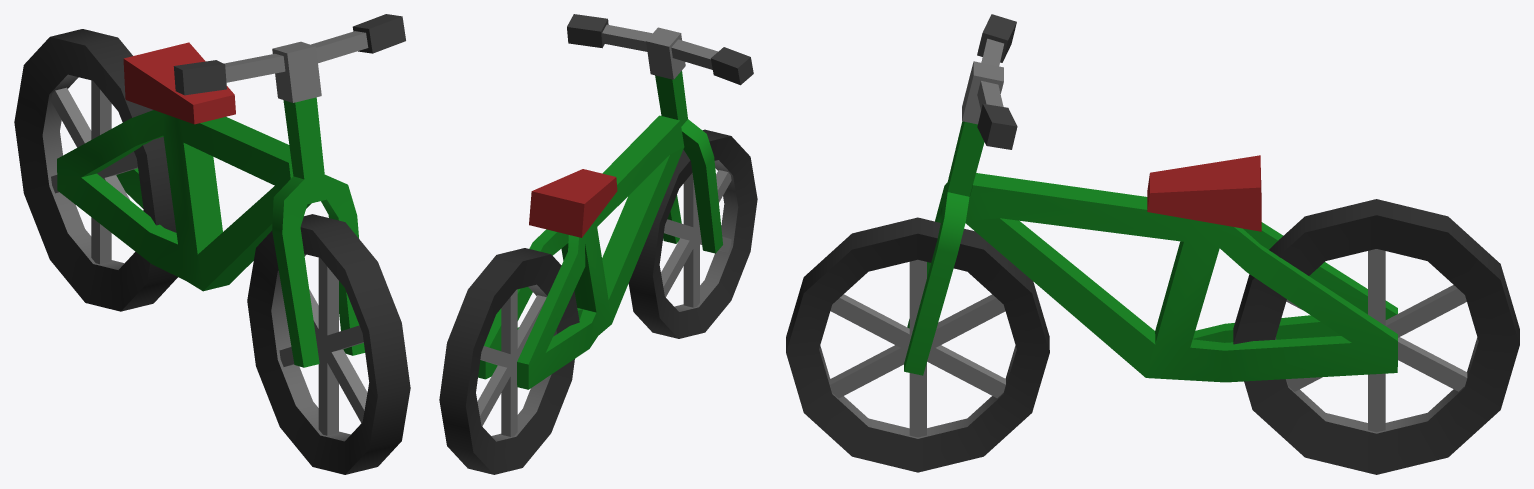
File: bicycle_v1_02.fbx
3 renders of one model, left to right at view 1: azimuth 30°, elevation 25°; view 2: azimuth 150°, elevation 25°; view 3: azimuth 270°, elevation 25°, orthographic. The views are drawn at different scales.
Visible parts, largest first — view 1: bicycle_v1_02; view 2: bicycle_v1_02; view 3: bicycle_v1_02.
Part boxes in pixels (x1=…): bicycle_v1_02: x1=14, y1=14, x2=410, y2=474; bicycle_v1_02: x1=439, y1=14, x2=757, y2=474; bicycle_v1_02: x1=786, y1=14, x2=1519, y2=474.
Size of the model in its own units: 52.87 by 89.88 by 150.
